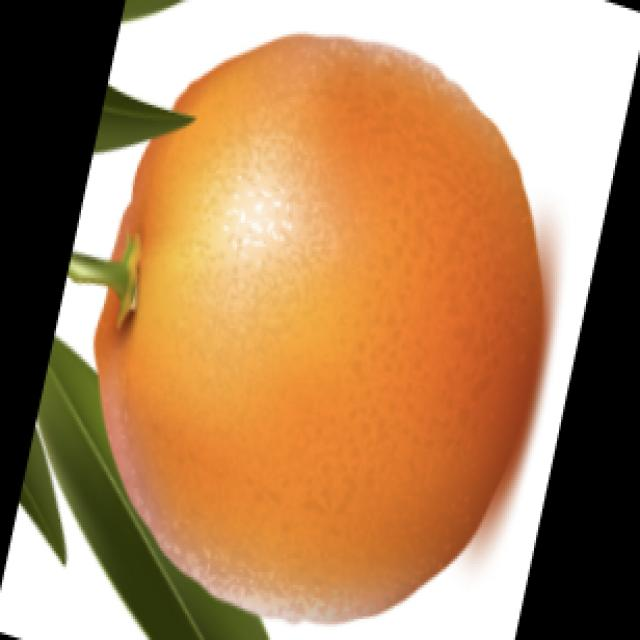fresh: (0, 19, 561, 638)
